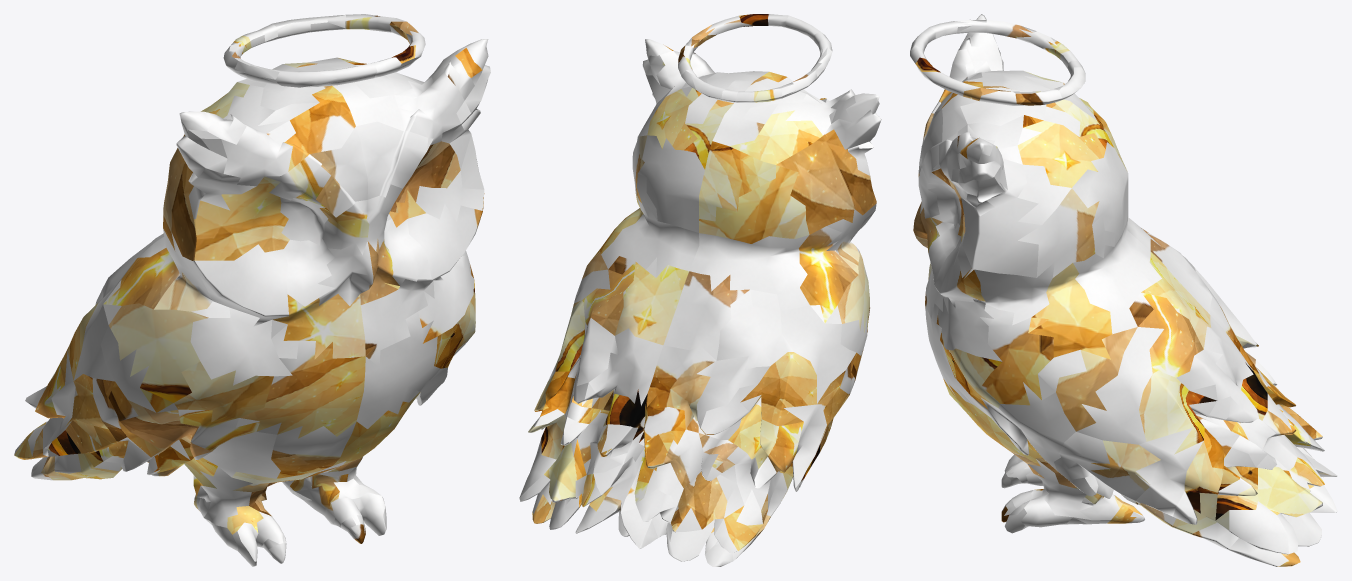
Rendered from seraph_owl_gold_10k.fbx.
3 views of the same model, side by side, from view 1: azimuth 30°, elevation 25°; view 2: azimuth 150°, elevation 25°; view 3: azimuth 270°, elevation 25° (orthographic). The views are drawn at different scales.
Parts seen in each view (by area): view 1: seraph_owl_gold_decimated; view 2: seraph_owl_gold_decimated; view 3: seraph_owl_gold_decimated.
Boxes of the visible parts, box(x1,y1,x2,y2) form: seraph_owl_gold_decimated: box(14, 14, 490, 566); seraph_owl_gold_decimated: box(519, 14, 881, 566); seraph_owl_gold_decimated: box(910, 14, 1337, 566).
Size of the model in its own units: 1.3 by 1.91 by 1.57.
